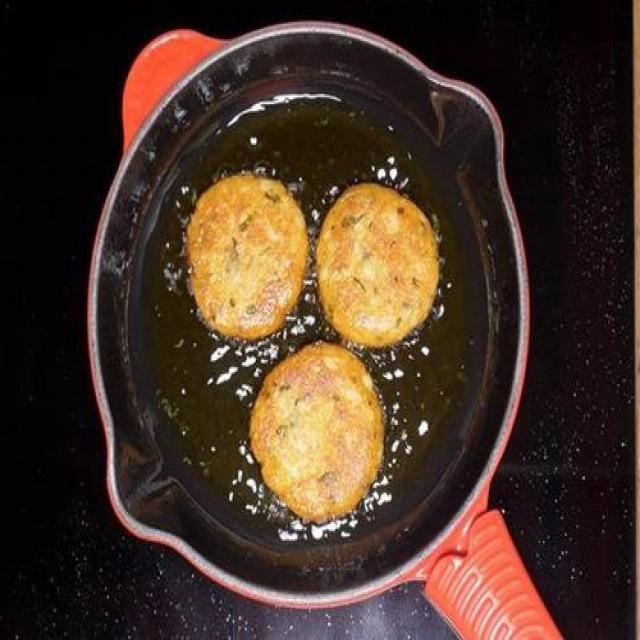Aloo Tikki: (250, 346, 382, 523), (185, 168, 306, 340), (315, 182, 438, 347)
